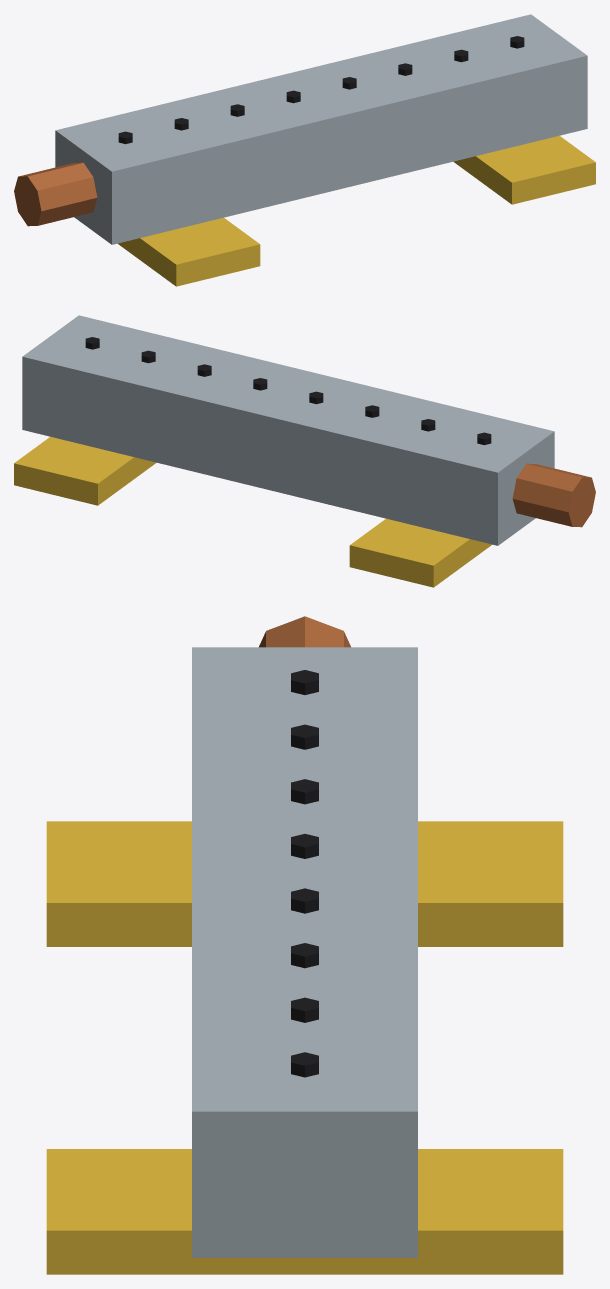
The model's file is GT_Sprinkler_01.glb.
The picture shows the model from 3 angles, top to bottom: view 1: azimuth 30°, elevation 25°; view 2: azimuth 150°, elevation 25°; view 3: azimuth 270°, elevation 25°; orthographic projection. The views are drawn at different scales.
Parts seen in each view (by area): view 1: GT_Sprinkler_01; view 2: GT_Sprinkler_01; view 3: GT_Sprinkler_01.
Part boxes in pixels (x1,y1,x2,y2): GT_Sprinkler_01: [14, 14, 595, 286]; GT_Sprinkler_01: [14, 315, 595, 587]; GT_Sprinkler_01: [46, 616, 563, 1274].
Size of the model in its own units: 0.38 by 0.069 by 0.16.
1 material, 1 textured.
